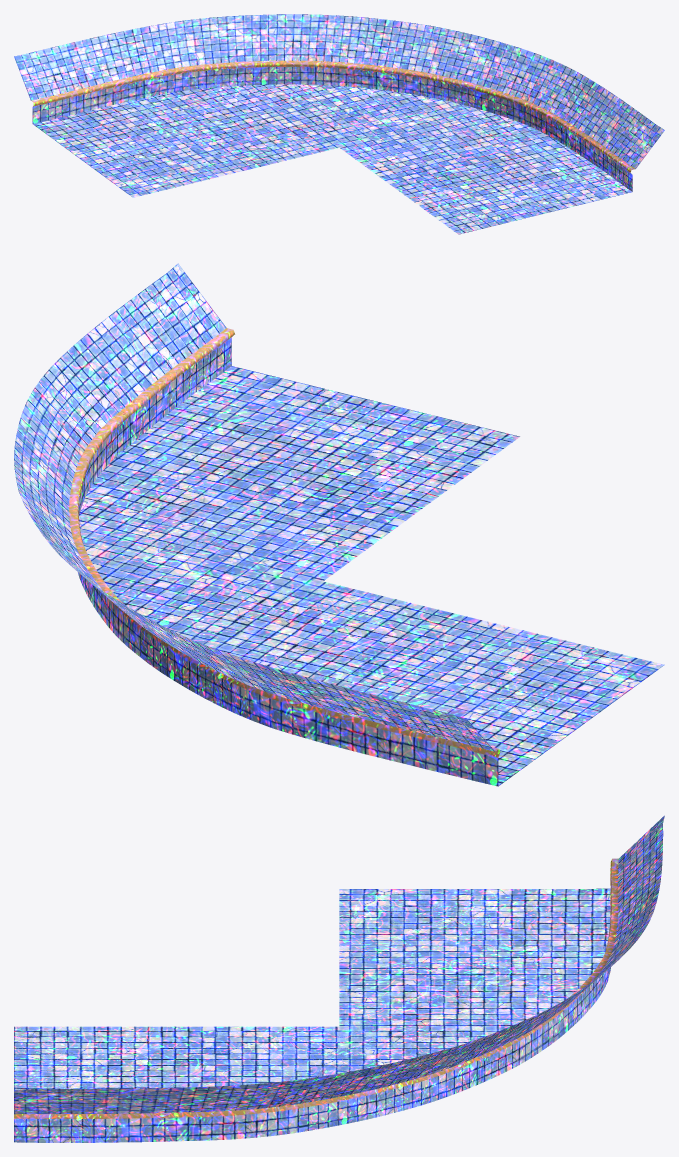
The model's file is water_corner_large_inverse_SM.fbx.
3 renders of one model, top to bottom at view 1: azimuth 30°, elevation 25°; view 2: azimuth 150°, elevation 25°; view 3: azimuth 270°, elevation 25°, orthographic. The views are drawn at different scales.
Visible parts, largest first — view 1: water_corner_large_inverse_SM_LOD0; view 2: water_corner_large_inverse_SM_LOD0; view 3: water_corner_large_inverse_SM_LOD0.
Part boxes in pixels (left/top/right/bottom): water_corner_large_inverse_SM_LOD0: left=14, top=14, right=664, bottom=234; water_corner_large_inverse_SM_LOD0: left=14, top=263, right=664, bottom=786; water_corner_large_inverse_SM_LOD0: left=14, top=815, right=664, bottom=1142.
Bounding box in the file's own units: 2048 × 2048 × 259.
Materials: 3 (3 with a texture image).
